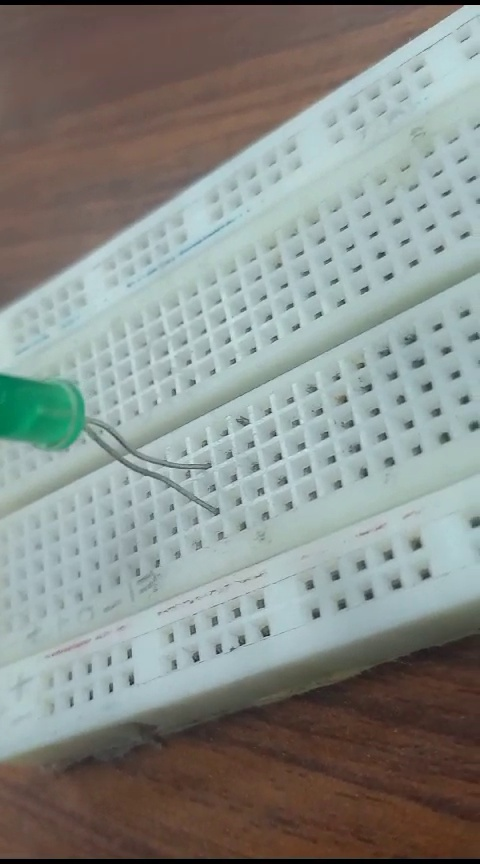LED: (2, 360, 227, 524)
